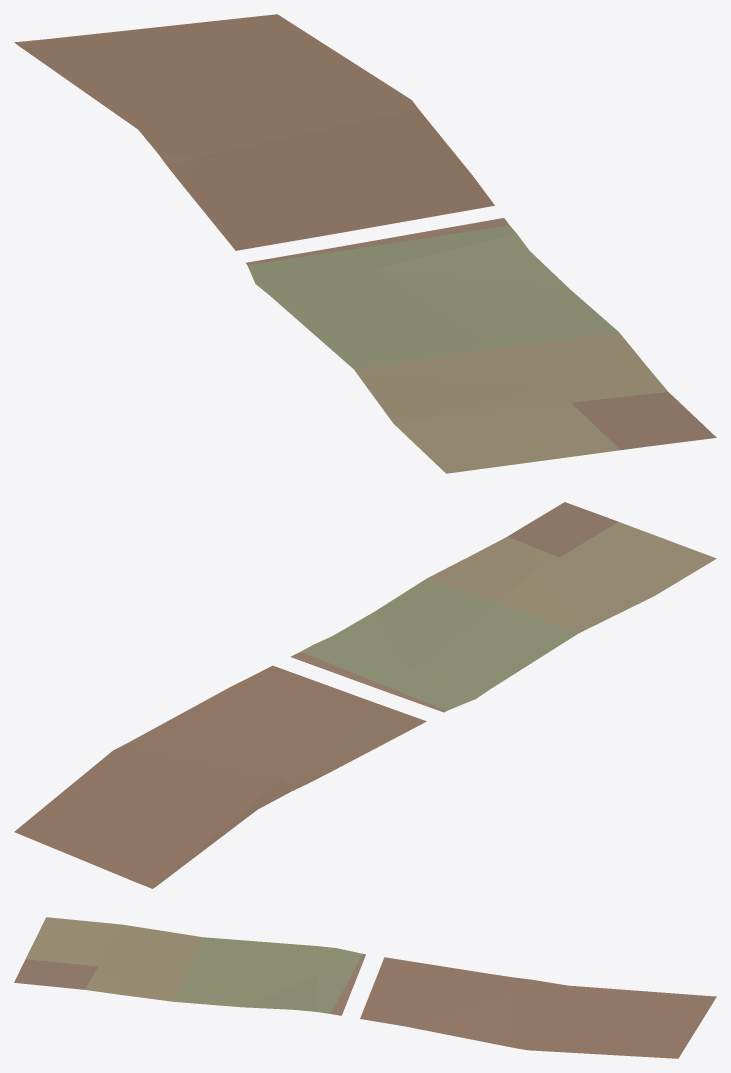
File: farm_14_0_soil.glb
The picture shows the model from 3 angles, top to bottom: view 1: azimuth 30°, elevation 25°; view 2: azimuth 150°, elevation 25°; view 3: azimuth 270°, elevation 25°; orthographic projection. The views are drawn at different scales.
Parts seen in each view (by area): view 1: geometry_0; view 2: geometry_0; view 3: geometry_0.
Part boxes in pixels (x1=…): geometry_0: x1=14, y1=14, x2=716, y2=473; geometry_0: x1=14, y1=502, x2=716, y2=888; geometry_0: x1=14, y1=917, x2=716, y2=1058.
Size of the model in its own units: 105 by 14.69 by 285.
